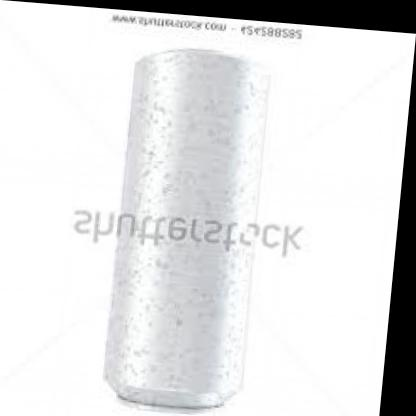trash: (105, 49, 265, 407)
